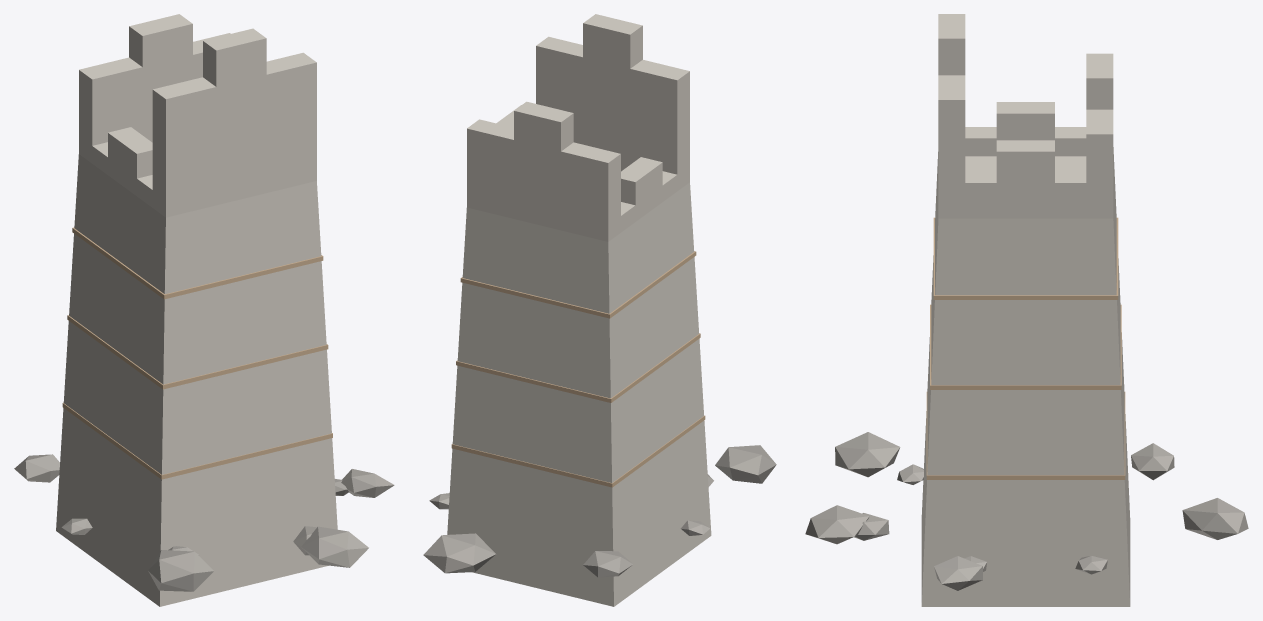
3 views of the same model, side by side, from view 1: azimuth 30°, elevation 25°; view 2: azimuth 150°, elevation 25°; view 3: azimuth 270°, elevation 25° (orthographic). The views are drawn at different scales.
Visible parts, largest first — view 1: WB_diaolouRuin_1.00; view 2: WB_diaolouRuin_1.00; view 3: WB_diaolouRuin_1.00.
Part boxes in pixels (x1,y1,x2,y2): WB_diaolouRuin_1.00: [14, 14, 394, 606]; WB_diaolouRuin_1.00: [423, 14, 776, 606]; WB_diaolouRuin_1.00: [805, 14, 1248, 606].
Size of the model in its own units: 9.99 by 17.6 by 13.18.
